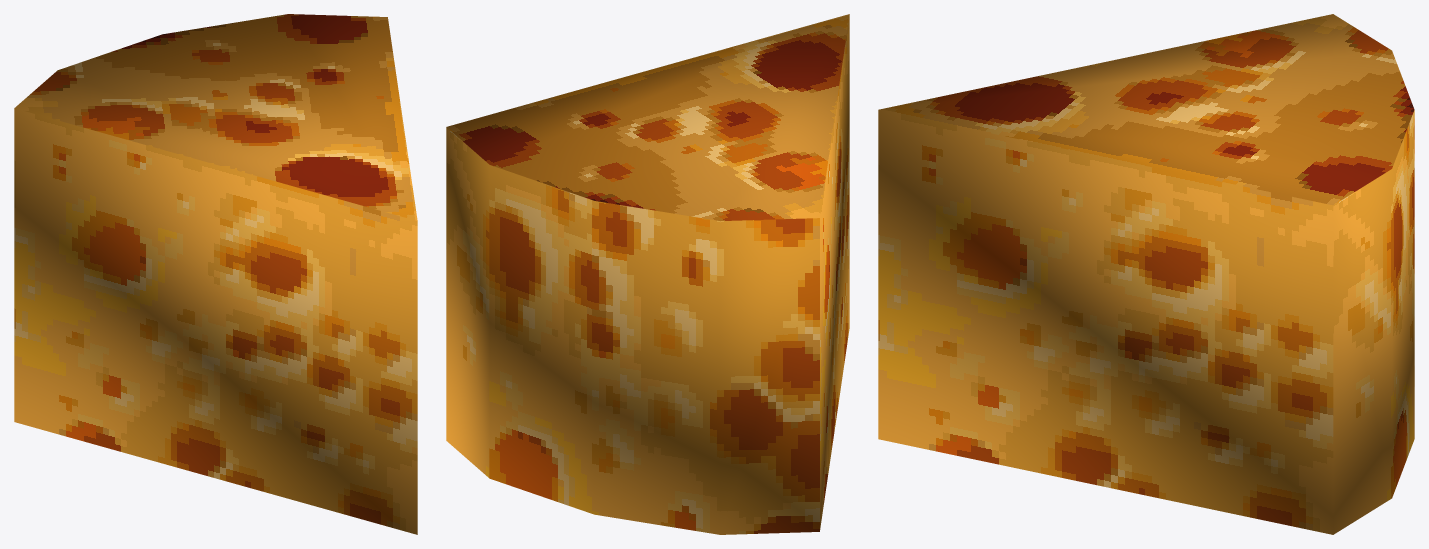
File: Cheese.glb
3 views of the same model, side by side, from view 1: azimuth 30°, elevation 25°; view 2: azimuth 150°, elevation 25°; view 3: azimuth 270°, elevation 25° (orthographic). The views are drawn at different scales.
Visible parts, largest first — view 1: Cheese; view 2: Cheese; view 3: Cheese.
Boxes of the visible parts, x1,y1,x2,y2 form: Cheese: (14,14,417,534); Cheese: (446,14,849,534); Cheese: (878,14,1414,534).
Bounding box in the file's own units: 0.3516 × 0.2822 × 0.4161.
Materials: 1 (1 with a texture image).
